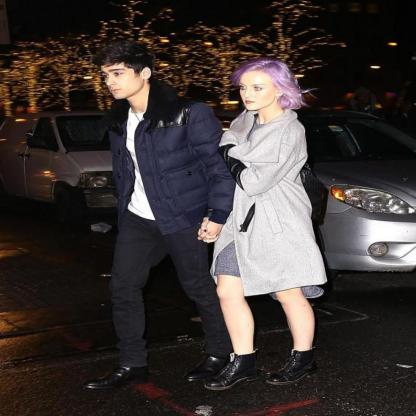face: (104, 62, 143, 101), (239, 74, 272, 113)
